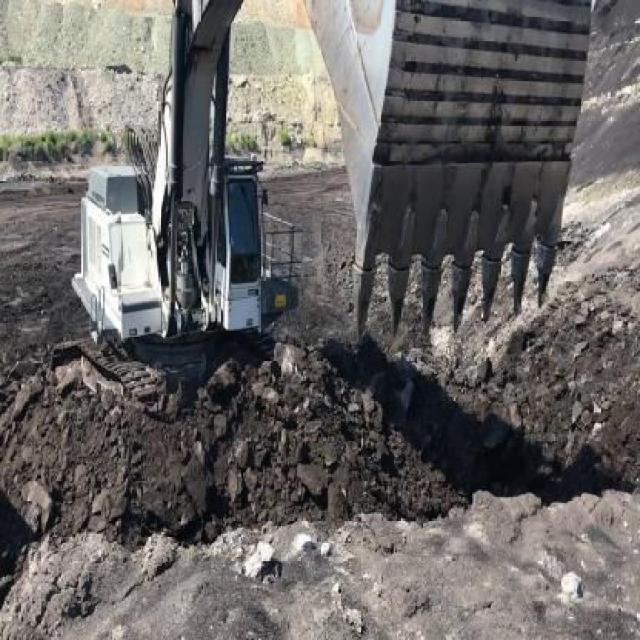Excavator: (41, 0, 594, 409)
